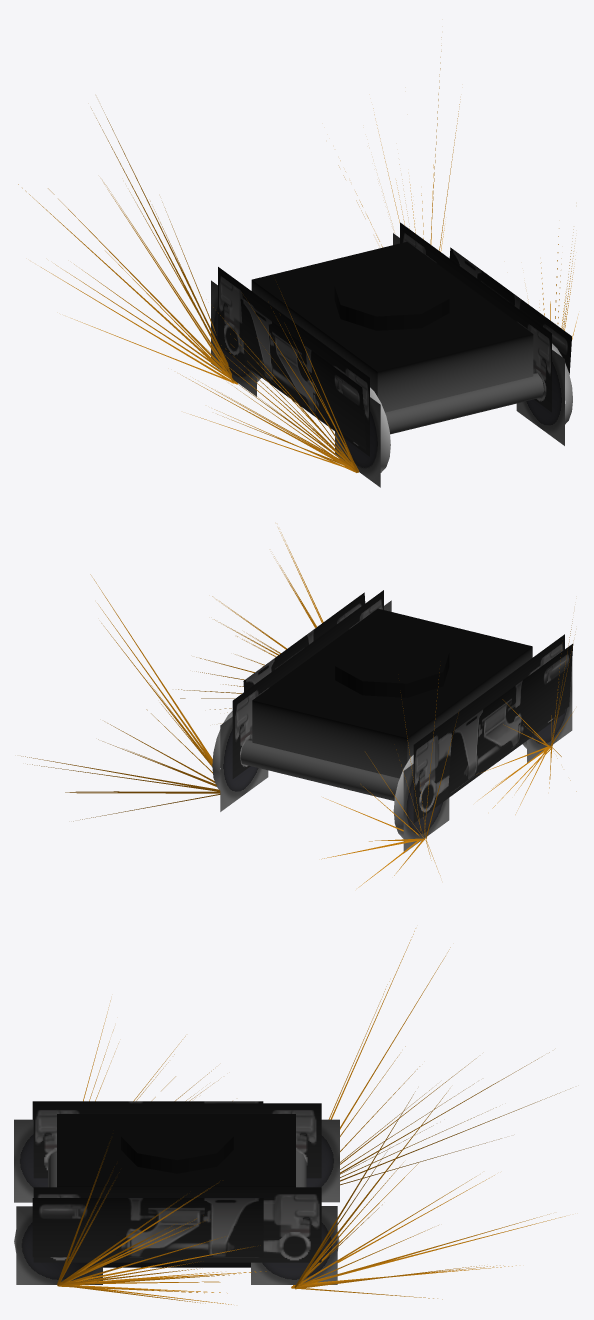
The model's file is K8000_TRACK.glb.
The picture shows the model from 3 angles, top to bottom: view 1: azimuth 30°, elevation 25°; view 2: azimuth 150°, elevation 25°; view 3: azimuth 270°, elevation 25°; orthographic projection. The views are drawn at different scales.
Visible parts, largest first — view 1: trackbase, Fire1_R_1, Fire0_R_0; view 2: trackbase, Fire1_L_0, Fire1_R_1, Fire0_R_0, Fire0_L_1, Fire0_L_0; view 3: trackbase, Fire1_L_1, Fire0_L_0, Fire0_L_1, Fire1_R_0.
Boxes of the visible parts, bbox=[...] form: trackbase: bbox=[211, 222, 572, 487]; Fire1_R_1: bbox=[18, 108, 237, 384]; Fire0_R_0: bbox=[180, 284, 359, 472]; trackbase: bbox=[212, 590, 573, 852]; Fire1_L_0: bbox=[25, 580, 220, 819]; Fire1_R_1: bbox=[322, 683, 438, 887]; Fire0_R_0: bbox=[479, 687, 561, 812]; Fire0_L_1: bbox=[180, 532, 323, 712]; Fire0_L_0: bbox=[178, 528, 322, 723]; trackbase: bbox=[14, 1101, 339, 1284]; Fire1_L_1: bbox=[291, 1090, 564, 1298]; Fire0_L_0: bbox=[57, 1146, 266, 1304]; Fire0_L_1: bbox=[57, 1142, 265, 1304]; Fire1_R_0: bbox=[329, 931, 556, 1185].
Size of the model in its own units: 10.41 by 6.14 by 13.06.
Materials: 14 (5 with a texture image).
